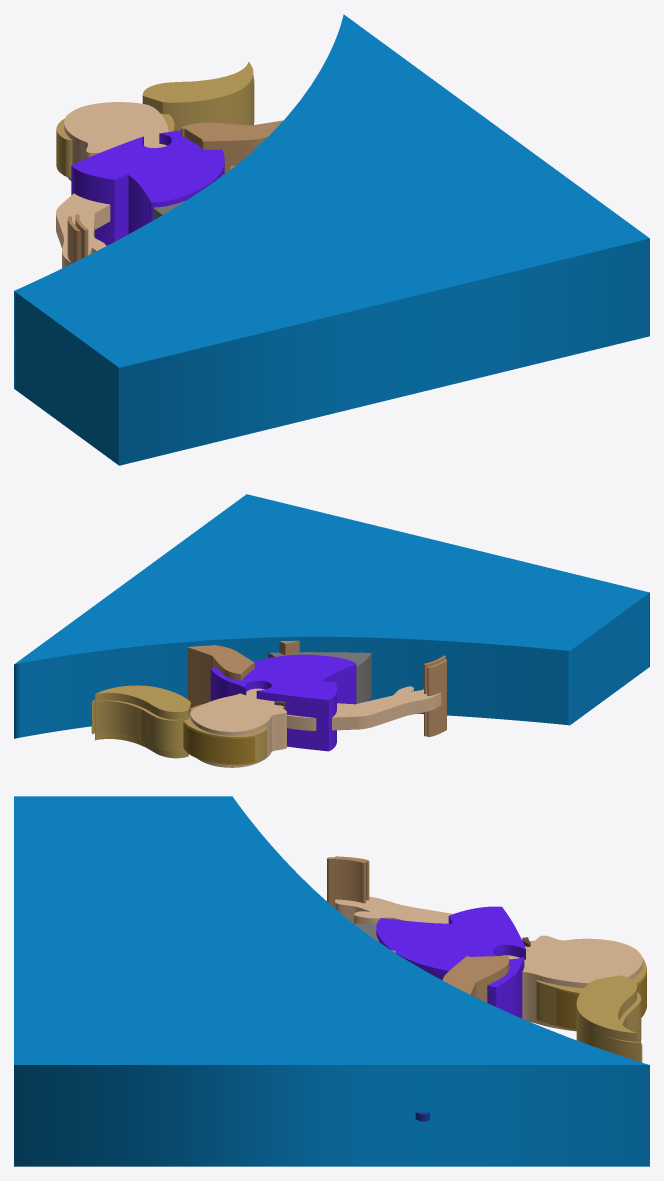
The model's file is emoji_u1f3c4_1f3fc_200d_2640.glb.
The picture shows the model from 3 angles, top to bottom: view 1: azimuth 30°, elevation 25°; view 2: azimuth 150°, elevation 25°; view 3: azimuth 270°, elevation 25°; orthographic projection. The views are drawn at different scales.
Visible parts, largest first — view 1: emoji_u1f3c4_1f3fc_200d_2640; view 2: emoji_u1f3c4_1f3fc_200d_2640; view 3: emoji_u1f3c4_1f3fc_200d_2640.
Boxes of the visible parts, bbox=[...] form: emoji_u1f3c4_1f3fc_200d_2640: bbox=[14, 14, 649, 465]; emoji_u1f3c4_1f3fc_200d_2640: bbox=[14, 494, 649, 767]; emoji_u1f3c4_1f3fc_200d_2640: bbox=[14, 796, 649, 1166].
Bounding box in the file's own units: 0.0332 × 0.0058 × 0.0329.
